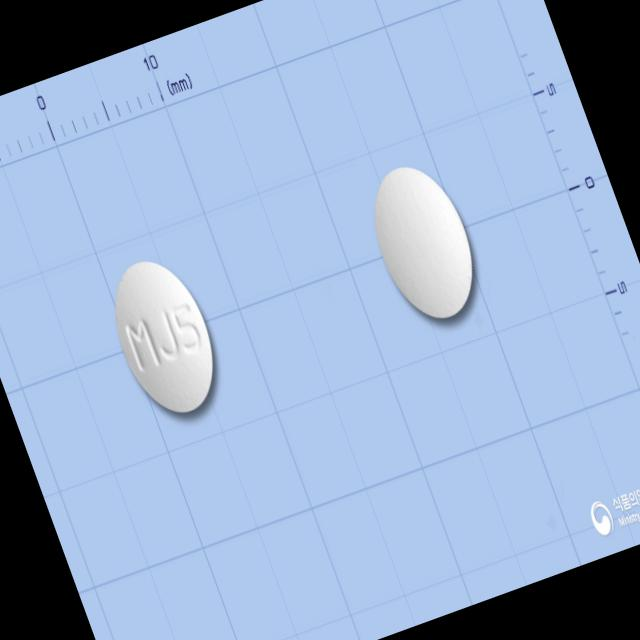Levofcin: (96, 246, 235, 428)
